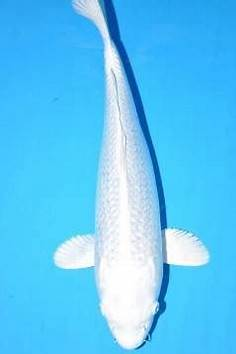white: (53, 1, 210, 351)
